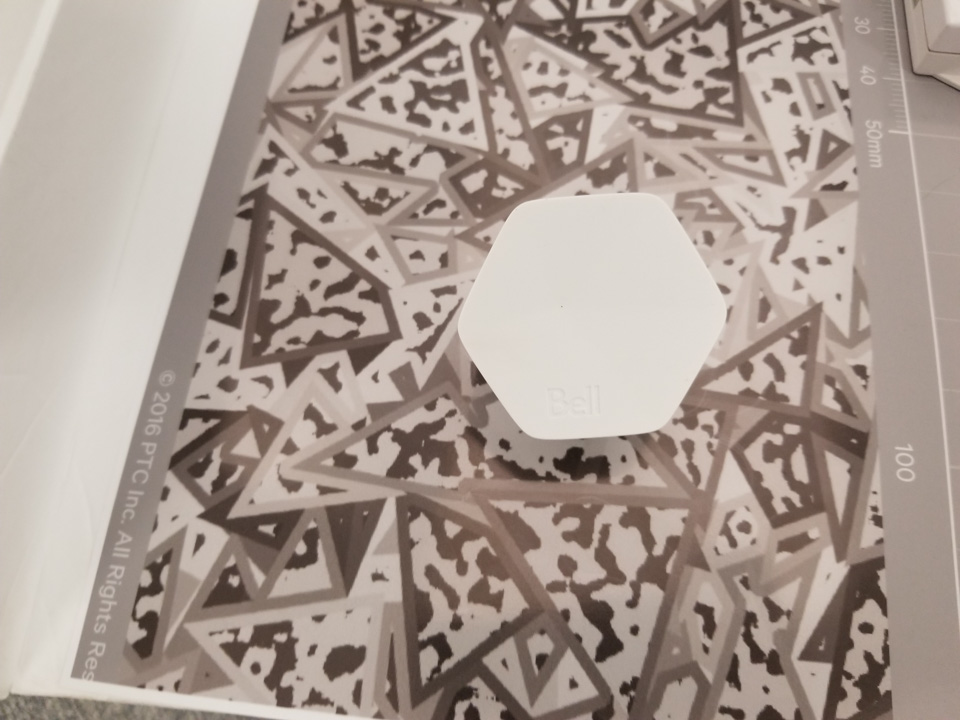pod: (448, 189, 746, 449)
